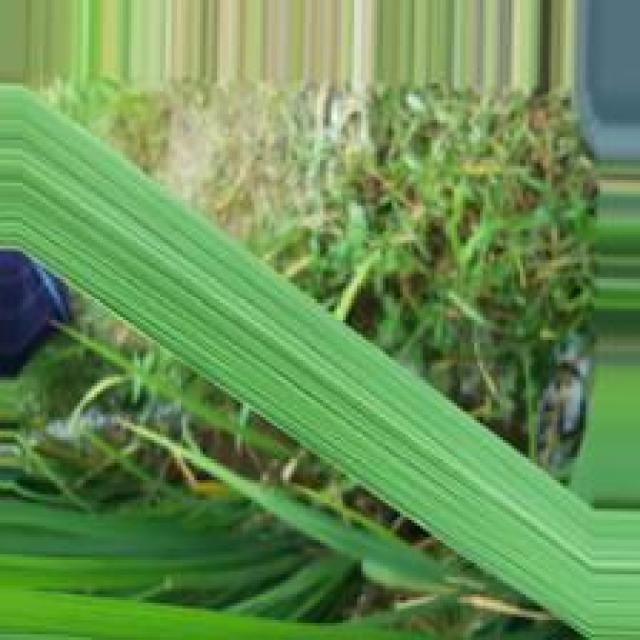HealthyLeaf: (25, 109, 593, 634)
